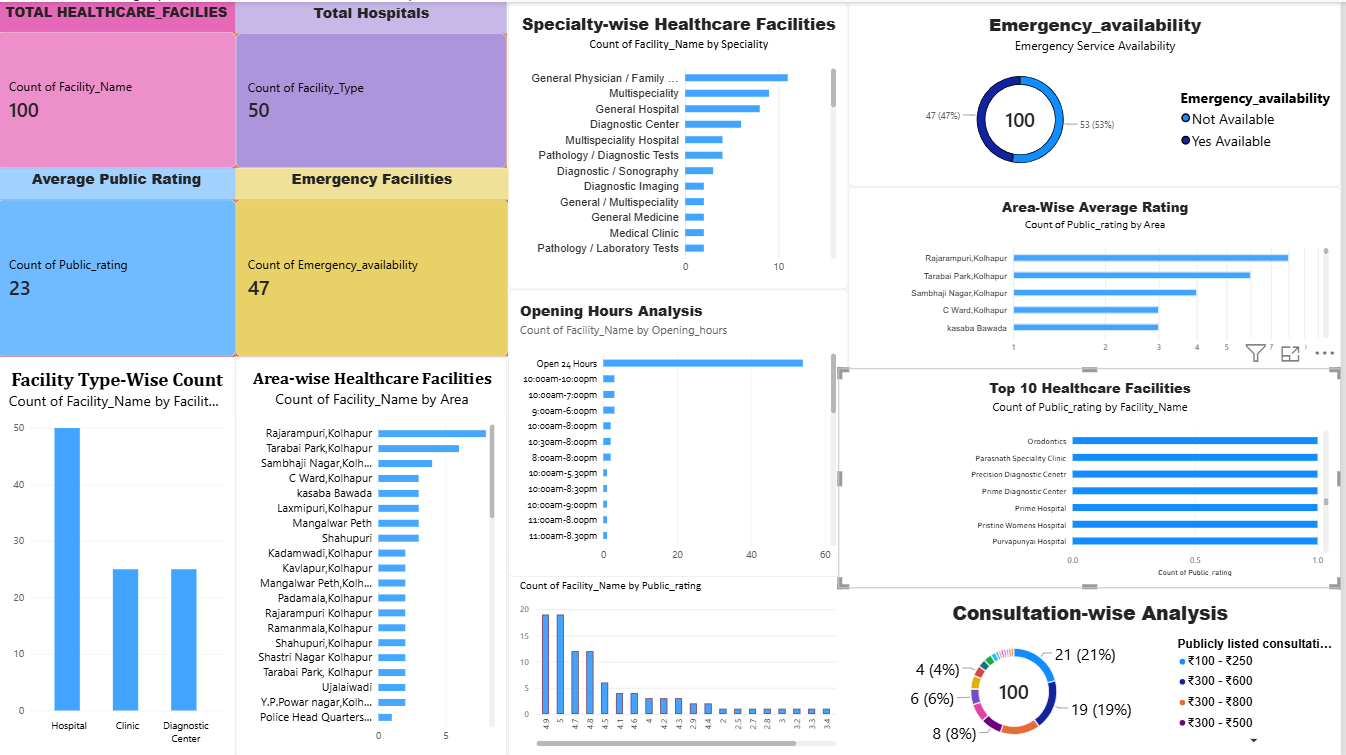

This screenshot's page, from the dashboard's own definition file:
{"tool":"powerbi","page":{"name":"Page 1","canvas":[1920,1080],"ordinal":0},"visuals":[{"type":"clusteredColumnChart","title":"Facility Type-Wise Count","fields":{"Category":["Hospitals.Facility_Type"],"Y":["CountNonNull(Hospitals.Facility_Name)"]},"box":[0,506.8,350,572.7],"z":0},{"type":"clusteredBarChart","title":"Area-wise Healthcare Facilities","fields":{"Category":["Hospitals.Area"],"Y":["CountNonNull(Hospitals.Facility_Name)"]},"box":[350,506.8,409.1,572.7],"z":1000},{"type":"clusteredColumnChart","title":"Rating-wise Healthcare Facilities","fields":{"Category":["Hospitals.Public_rating"],"Y":["CountNonNull(Hospitals.Facility_Name)"]},"box":[759.1,740.9,477.3,338.6],"z":2000},{"type":"clusteredBarChart","title":"Specialty-wise Healthcare Facilities","fields":{"Category":["Hospitals.Speciality"],"Y":["CountNonNull(Hospitals.Facility_Name)"]},"box":[759.1,0,477.5,352],"z":3000},{"type":"donutChart","title":" Emergency_availability","fields":{"Category":["Hospitals.Emergency_availability"],"Y":["CountNonNull(Hospitals.Facility_Name)"]},"box":[1235.7,0,682.1,232.1],"z":4000},{"type":"donutChart","title":"Consultation-wise Analysis","fields":{"Category":["Hospitals.Publicly listed consultation_range"],"Y":["CountNonNull(Hospitals.Facility_Name)"]},"box":[1236.5,792.3,682.7,286.5],"z":5000},{"type":"clusteredBarChart","title":"Opening Hours Analysis","fields":{"Category":["Hospitals.Opening_hours"],"Y":["CountNonNull(Hospitals.Facility_Name)"]},"box":[758.9,351.8,477.3,388.6],"z":6000},{"type":"clusteredBarChart","title":"Area-Wise Average Rating","fields":{"Category":["Hospitals.Area"],"Y":["CountNonNull(Hospitals.Public_rating)"]},"box":[1236.5,232.7,684.6,275],"z":7000},{"type":"clusteredBarChart","title":"Top 10 Healthcare Facilities","fields":{"Category":["Hospitals.Facility_Name"],"Y":["CountNonNull(Hospitals.Public_rating)"]},"box":[1236.5,505.8,682.7,286.5],"z":8000},{"type":"cardVisual","title":"TOTAL HEALTHCARE_FACILIES","fields":{"Data":["CountNonNull(Hospitals.Facility_Name)"]},"box":[0,0,372.7,240.9],"z":9000},{"type":"cardVisual","title":"Total Hospitals","fields":{"Data":["CountNonNull(Hospitals.Facility_Type)"]},"box":[372.7,0,386.4,240.9],"z":10000},{"type":"cardVisual","title":"Average Public Rating","fields":{"Data":["Count(Hospitals.Public_rating)"]},"box":[0,231.8,372.7,275],"z":11000},{"type":"cardVisual","title":"Emergency Facilities","fields":{"Data":["CountNonNull(Hospitals.Emergency_availability)"]},"box":[372.7,240.9,386.4,265.9],"z":12000}]}

Visuals, with their boxes in screenshot pixels (x1, y1, x2, y2), scaled from the page's 1920x1080 canvas onto the 1346x755 screenshot:
"Facility Type-Wise Count" clusteredColumnChart: x1=0, y1=354, x2=245, y2=754
"Area-wise Healthcare Facilities" clusteredBarChart: x1=245, y1=354, x2=532, y2=754
"Rating-wise Healthcare Facilities" clusteredColumnChart: x1=532, y1=518, x2=867, y2=754
"Specialty-wise Healthcare Facilities" clusteredBarChart: x1=532, y1=0, x2=867, y2=246
" Emergency_availability" donutChart: x1=866, y1=0, x2=1344, y2=162
"Consultation-wise Analysis" donutChart: x1=867, y1=554, x2=1345, y2=754
"Opening Hours Analysis" clusteredBarChart: x1=532, y1=246, x2=867, y2=518
"Area-Wise Average Rating" clusteredBarChart: x1=867, y1=163, x2=1345, y2=355
"Top 10 Healthcare Facilities" clusteredBarChart: x1=867, y1=354, x2=1345, y2=554
"TOTAL HEALTHCARE_FACILIES" cardVisual: x1=0, y1=0, x2=261, y2=168
"Total Hospitals" cardVisual: x1=261, y1=0, x2=532, y2=168
"Average Public Rating" cardVisual: x1=0, y1=162, x2=261, y2=354
"Emergency Facilities" cardVisual: x1=261, y1=168, x2=532, y2=354
